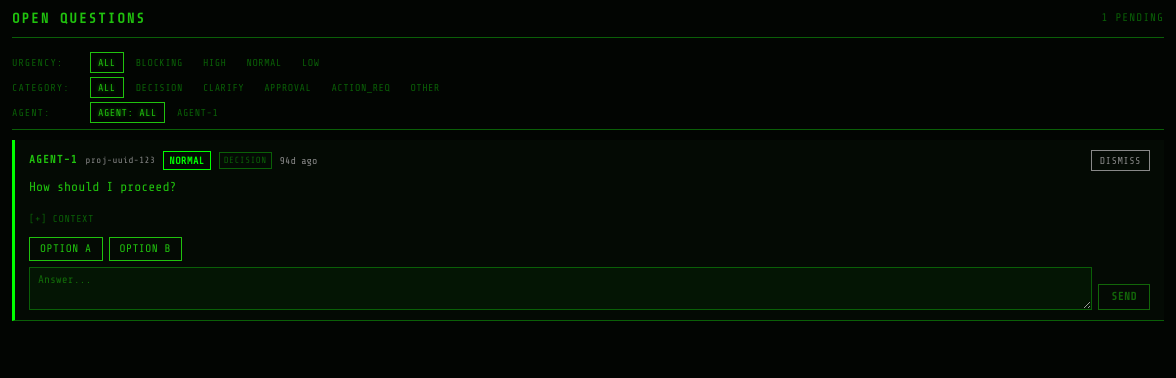
Test case: OpenQuestionsView › context block › should render context text when context toggle is expanded
This screenshot has width=1176, height=378.
# Expand it
Click the button "[+] CONTEXT". click: coordinates (61, 218)
box: 29,210 -> 94,226
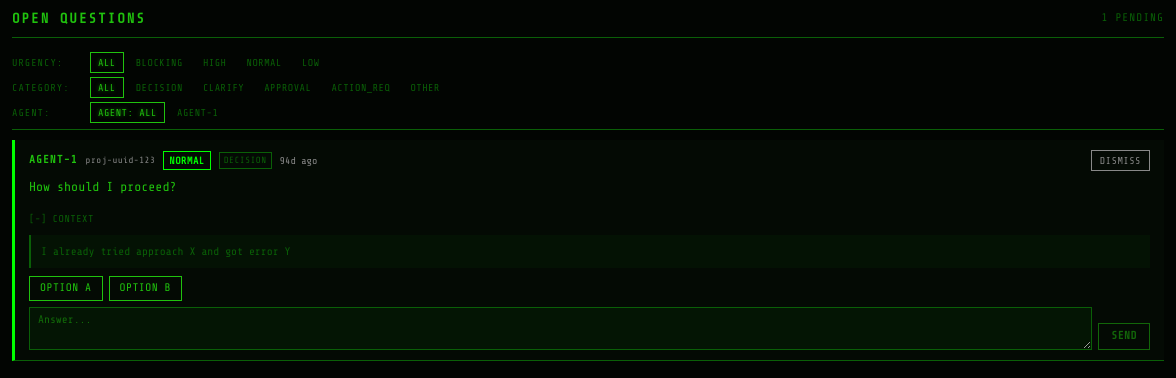
Expected: the text "I already tried approach X and got error Y" is shown, 29,234 -> 1150,268
